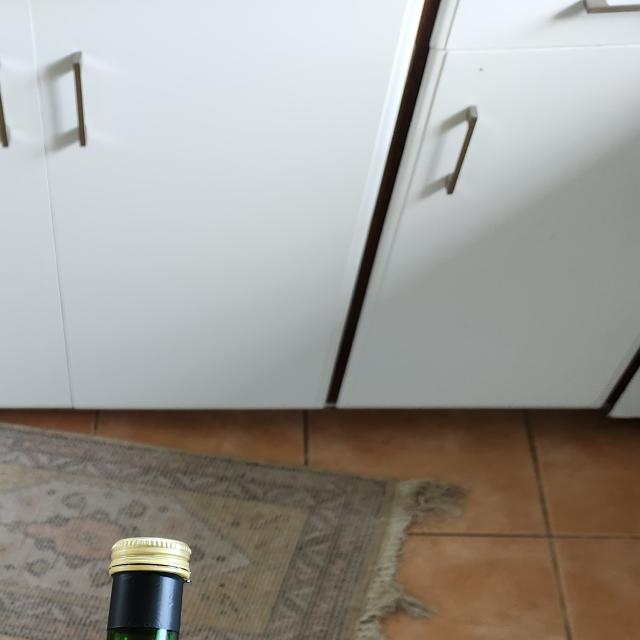balsamic vinegar: (17, 534, 219, 640)
